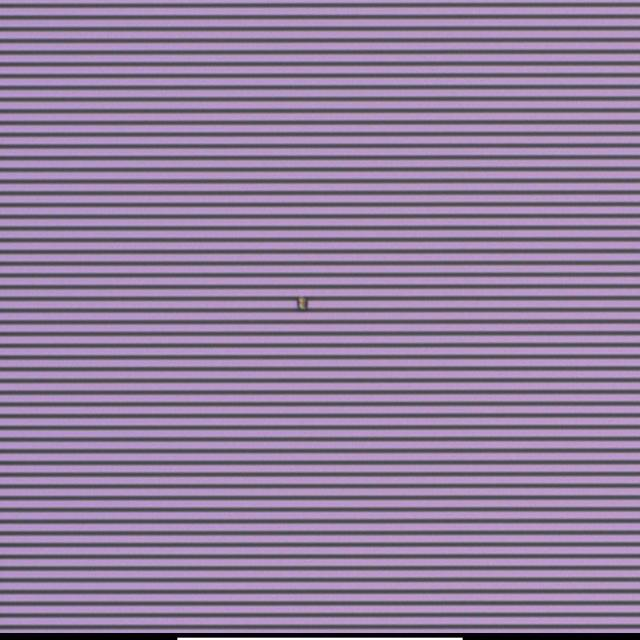03_intrusion: (294, 294, 312, 312)
